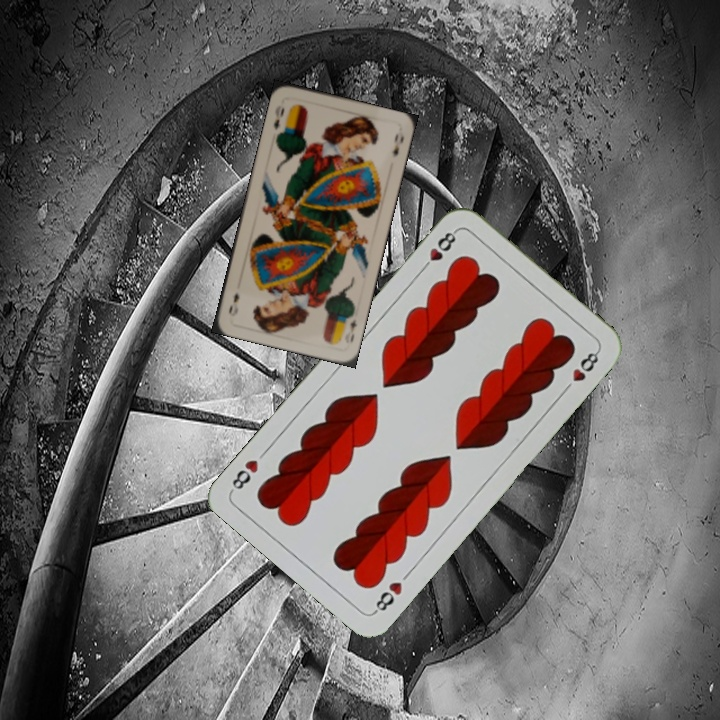EO: (341, 309, 359, 345), (270, 104, 287, 133)
H8: (417, 226, 460, 274), (369, 577, 405, 616)
